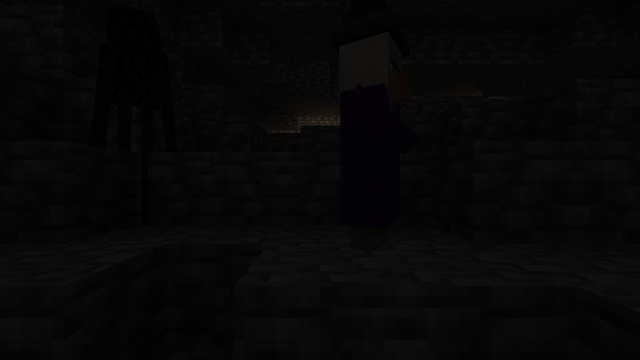endermens: (95, 5, 171, 229)
sorcieres: (338, 24, 413, 251)
